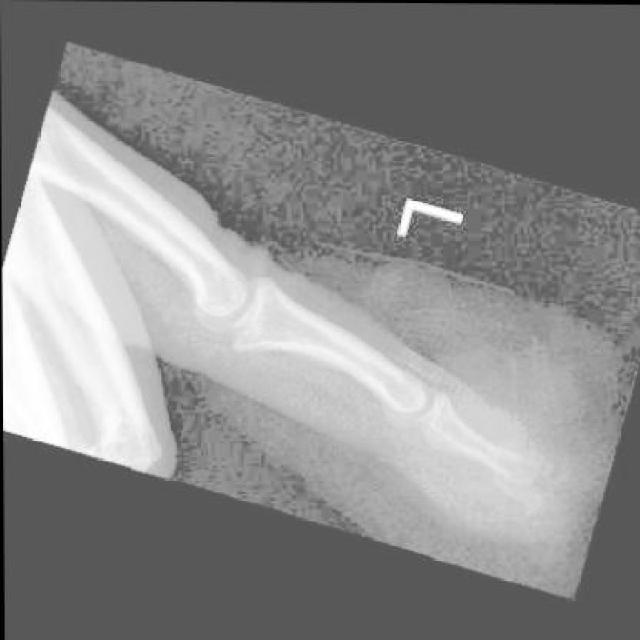Fracture: (476, 425, 572, 518)
